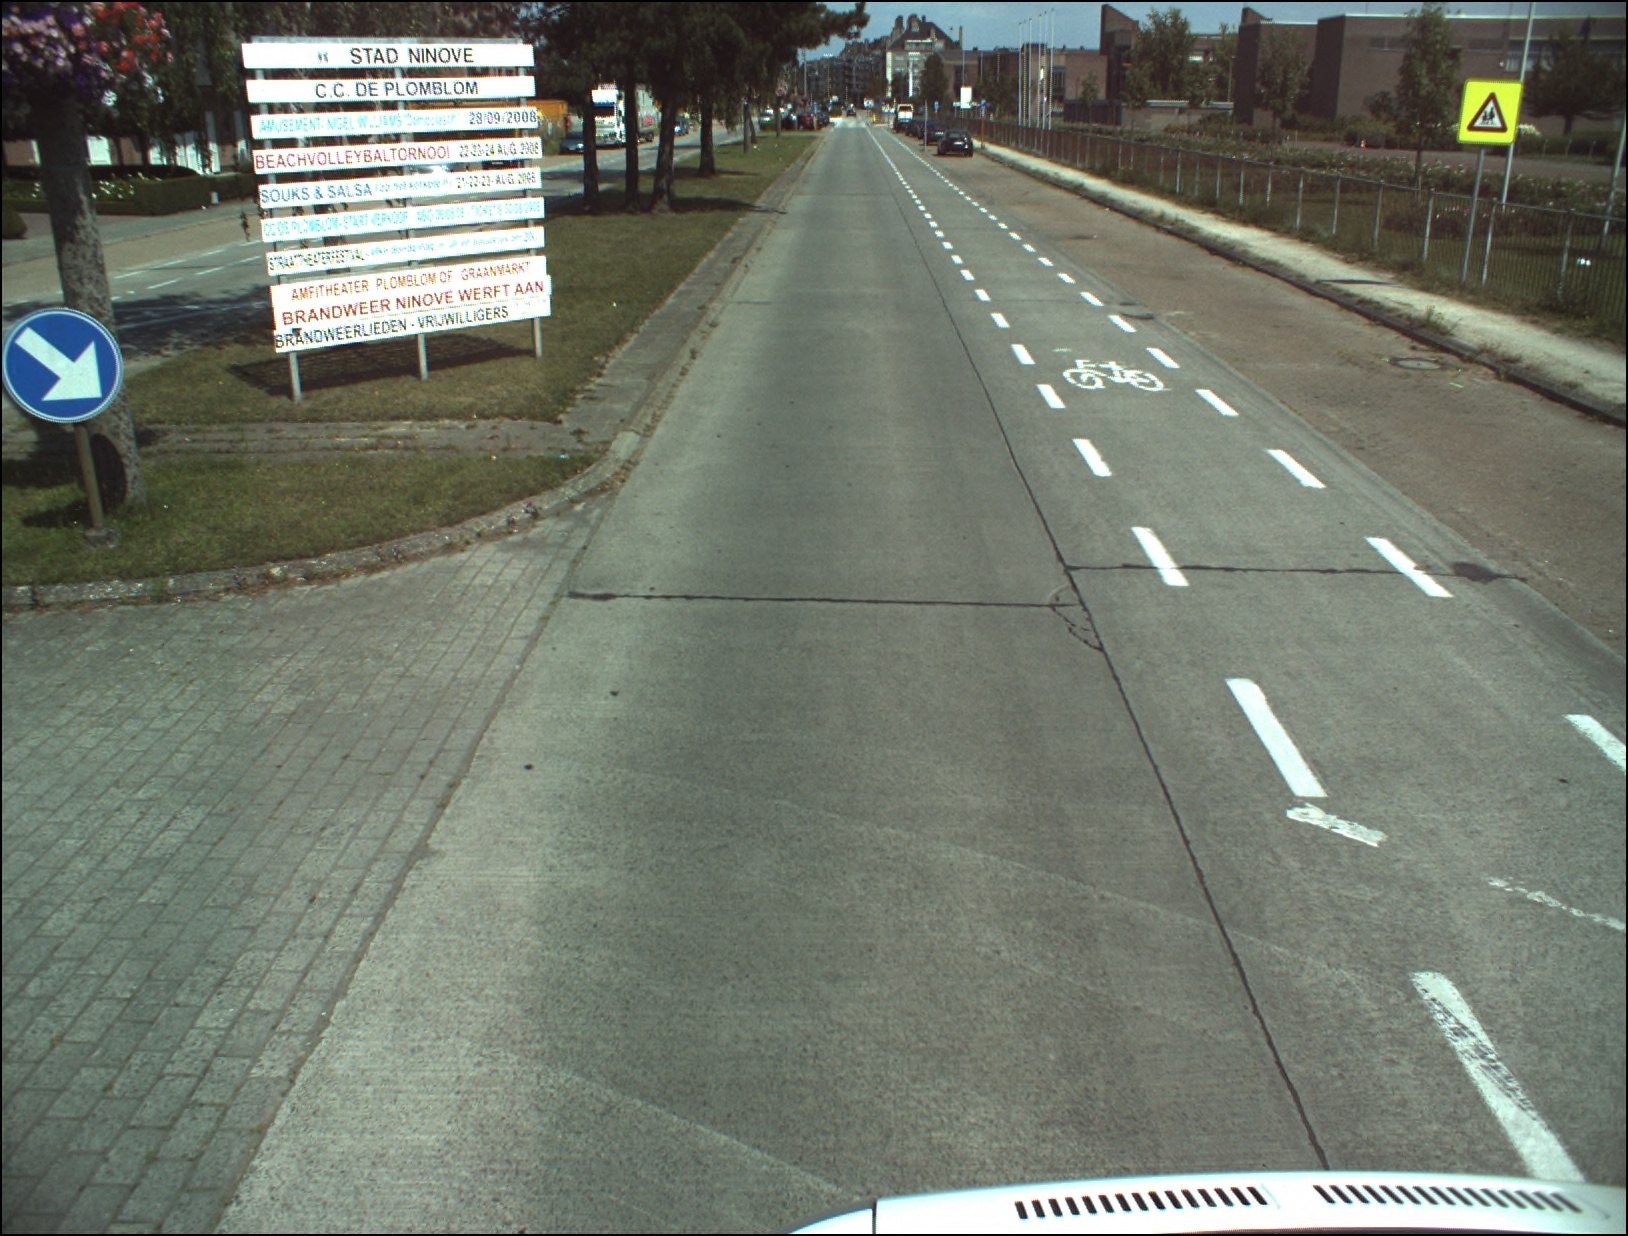children: (1471, 93, 1509, 128)
passright: (2, 312, 122, 422)
